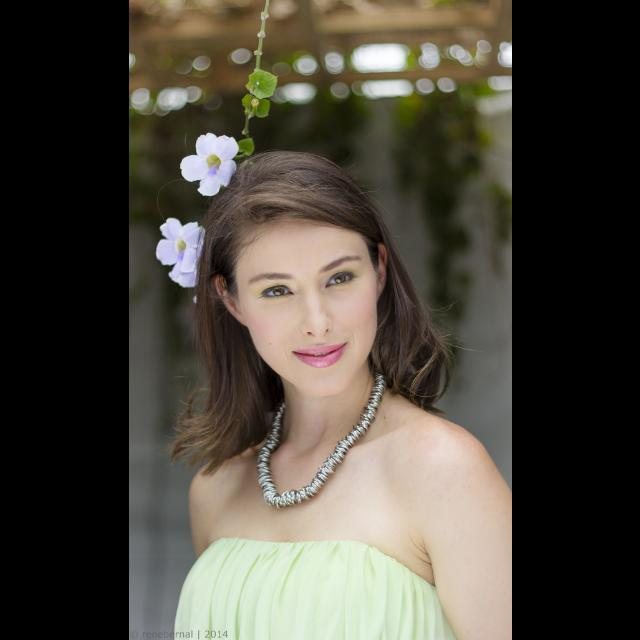Flower: (156, 216, 212, 284), (181, 127, 241, 189)
